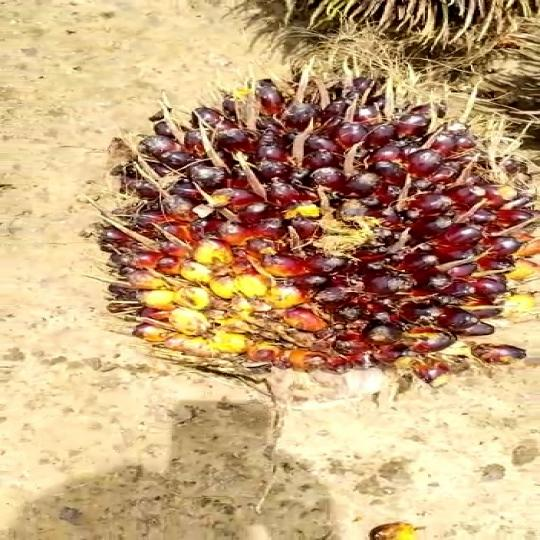mentah: (106, 58, 536, 395)
